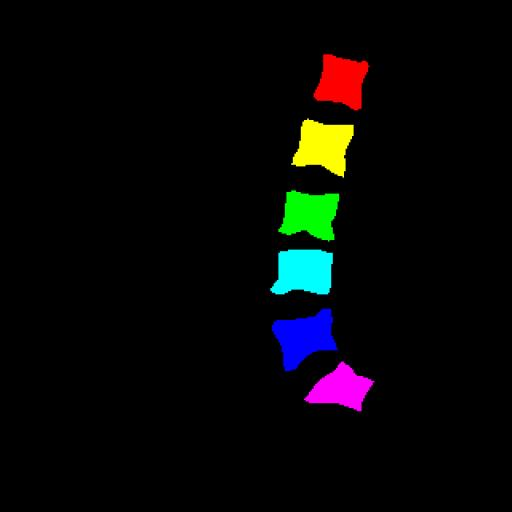L1: (314, 54, 369, 110)
L2: (292, 120, 354, 176)
L3: (278, 191, 339, 240)
L4: (271, 250, 333, 294)
L5: (272, 309, 337, 370)
S1: (305, 362, 374, 411)
